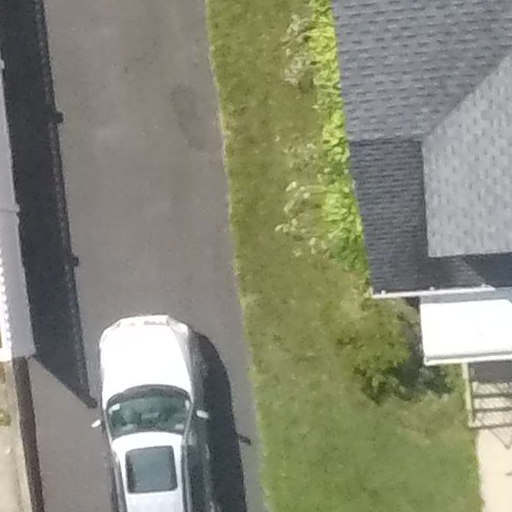car: (99, 301, 221, 512)
